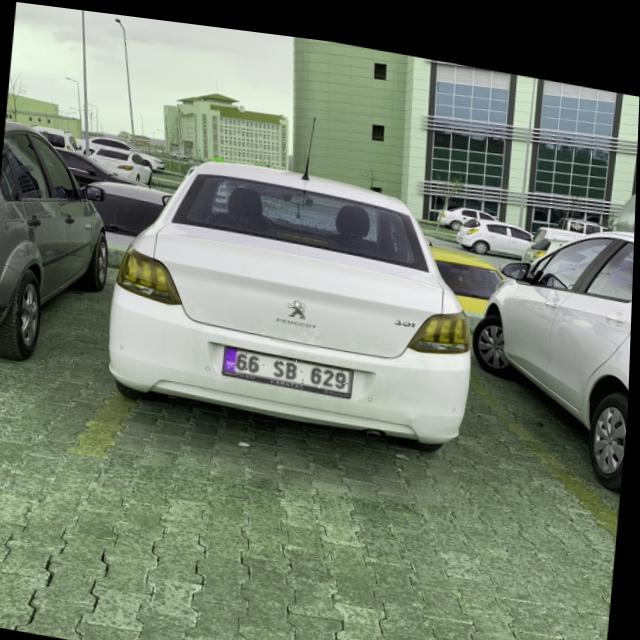license_plate: (225, 341, 355, 385)
